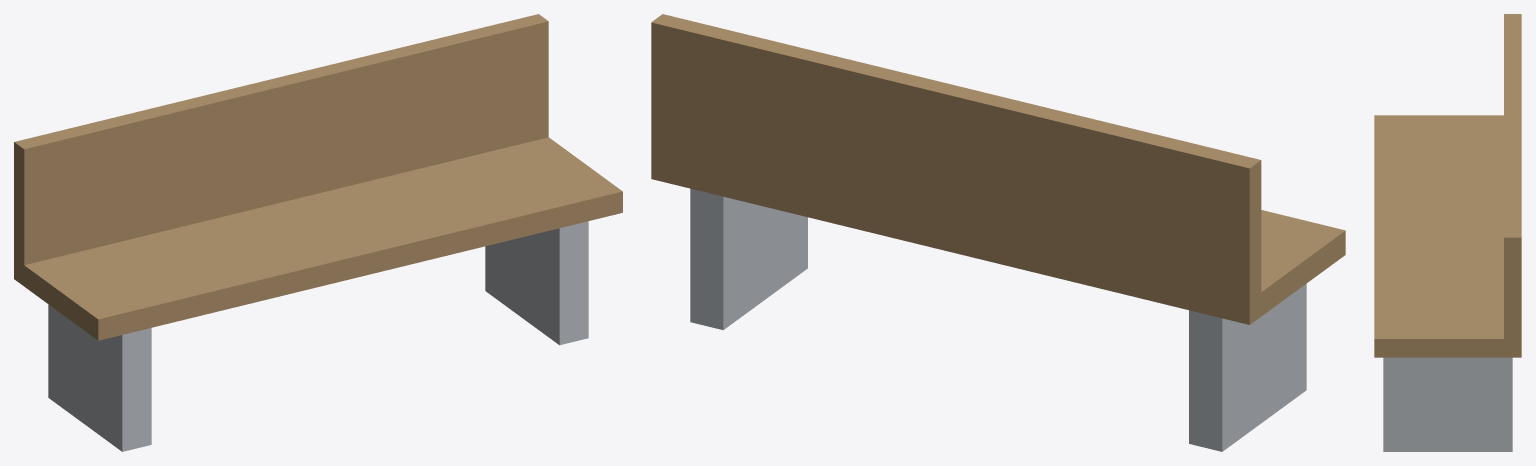
File: bench.glb
3 views of the same model, side by side, from view 1: azimuth 30°, elevation 25°; view 2: azimuth 150°, elevation 25°; view 3: azimuth 270°, elevation 25° (orthographic). The views are drawn at different scales.
Visible parts, largest first — view 1: bench_back, bench_seat, bench_leg_l, bench_leg_r; view 2: bench_back, bench_seat, bench_leg_l, bench_leg_r; view 3: bench_seat, bench_leg_r, bench_back.
Boxes of the visible parts, x1,y1,x2,y2 form: bench_back: [14, 14, 548, 265]; bench_seat: [14, 137, 622, 340]; bench_leg_l: [48, 304, 151, 451]; bench_leg_r: [485, 221, 588, 345]; bench_back: [651, 14, 1261, 300]; bench_seat: [651, 155, 1345, 324]; bench_leg_l: [1189, 284, 1306, 451]; bench_leg_r: [690, 188, 807, 330]; bench_seat: [1374, 115, 1521, 357]; bench_leg_r: [1383, 357, 1512, 451]; bench_back: [1504, 14, 1521, 338].
Bounding box in the file's own units: 1.8 × 0.85 × 0.5.
